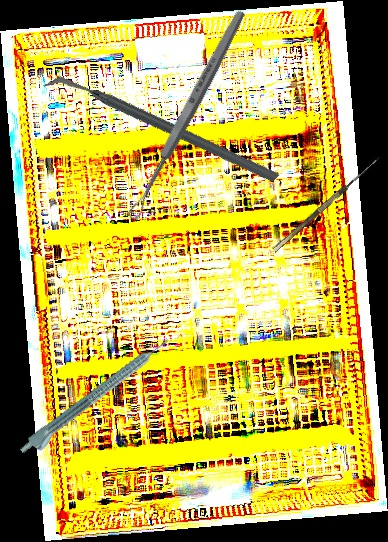Chopper: (43, 7, 280, 253)
Handpiece: (17, 334, 177, 463)
Hook Surgical: (267, 150, 382, 253)
Surgical Spoon: (124, 7, 249, 223)
